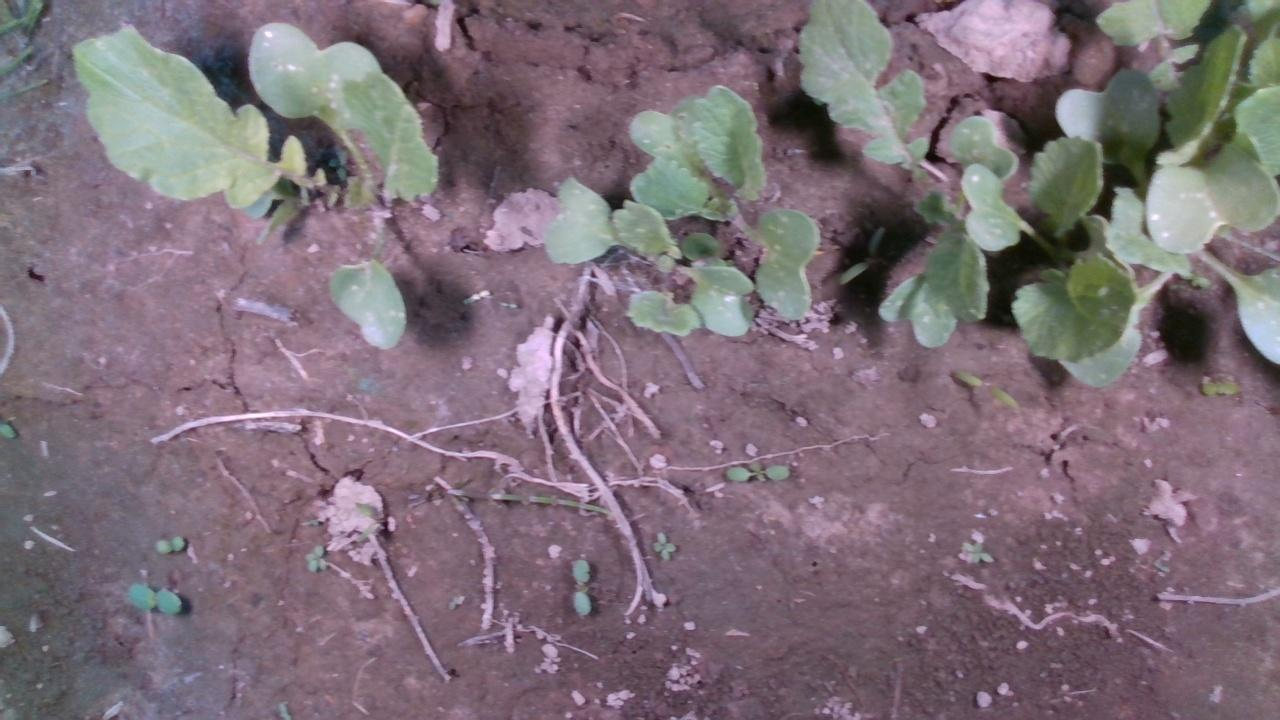weed: (718, 456, 792, 482), (569, 558, 592, 616), (650, 531, 677, 560)
